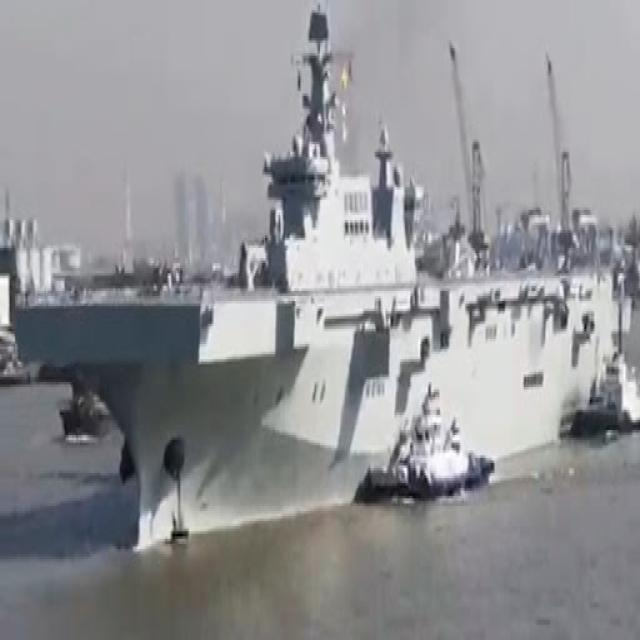Landing-Ship-Yushen-Class-075-CHI: (8, 0, 628, 559)
